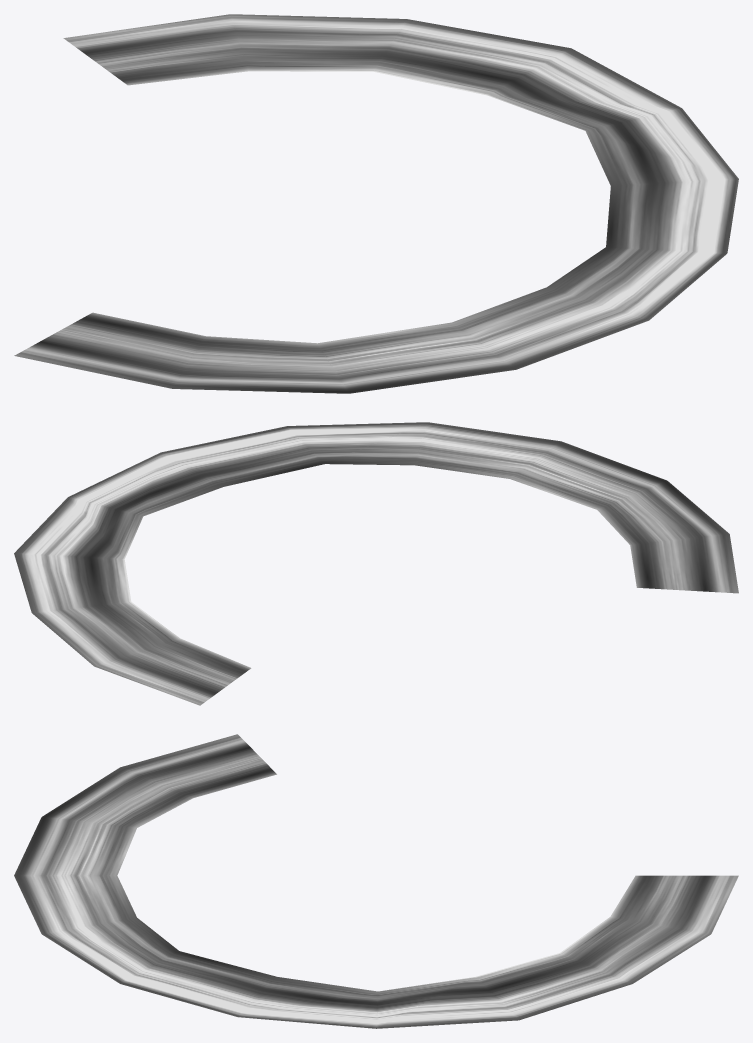
The model's file is PlayerAtk_2 vfxmodel new.fbx.
3 renders of one model, top to bottom at view 1: azimuth 30°, elevation 25°; view 2: azimuth 150°, elevation 25°; view 3: azimuth 270°, elevation 25°, orthographic. The views are drawn at different scales.
Parts seen in each view (by area): view 1: Torus_Atk_2; view 2: Torus_Atk_2; view 3: Torus_Atk_2.
Boxes of the visible parts, x1=… form: Torus_Atk_2: x1=14, y1=14, x2=738, y2=393; Torus_Atk_2: x1=14, y1=422, x2=738, y2=705; Torus_Atk_2: x1=14, y1=734, x2=738, y2=1028.
Bounding box in the file's own units: 5.27 × 5.96e-08 × 5.48.
